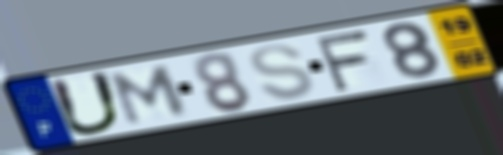8: (192, 50, 253, 114), (381, 20, 444, 81)
F: (311, 27, 373, 94)
M: (108, 63, 192, 127)
S: (248, 43, 318, 101)
U: (45, 68, 127, 137)
